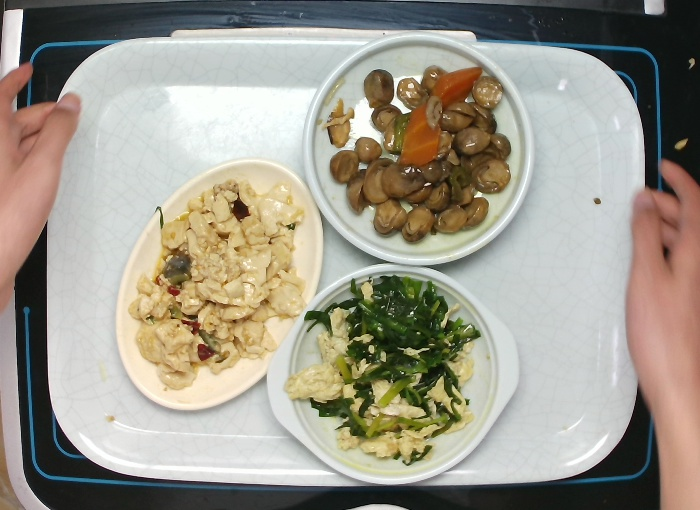JYsf-Shuang_Er_Pan: (263, 259, 527, 491)
JYsf-Tuo_Yuan_Wan: (112, 151, 332, 417)
JYsf-Xiao_Yuan_Pan: (300, 30, 536, 271)
